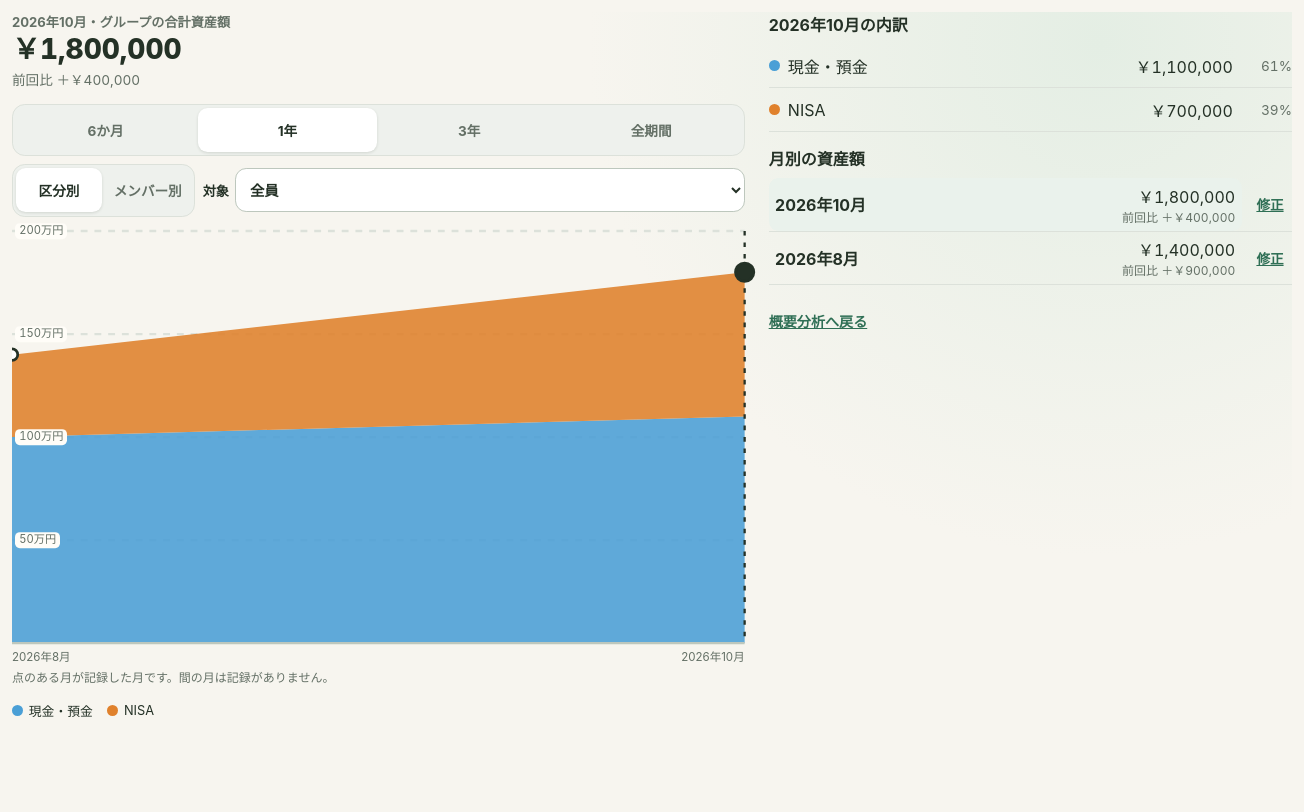
it: AssetTrendScreen › 月別の資産額の行で選択月を変え、修正リンクはその月の記録画面を開く (AC-AST-010-1)
Click the button "2026年8月 ￥1,400,000 前回比 ＋￥900,000". click: (817, 259)
box: [769,232,1242,284]
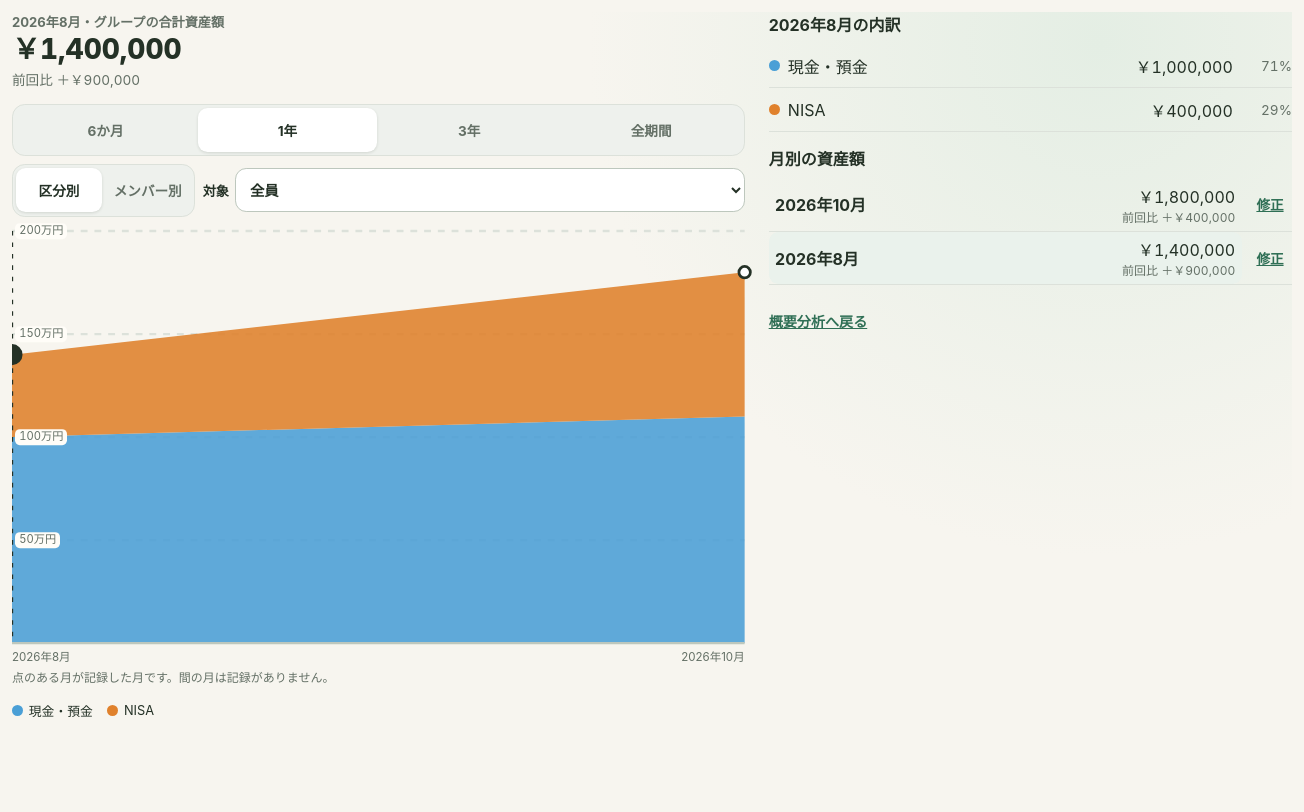
Expected: the element named "選択中の月の合計資産額" shows "2026年8月", [12,14,224,30]
Expected: the element named "選択中の月の合計資産額" shows "￥1,400,000", [12,32,182,66]
